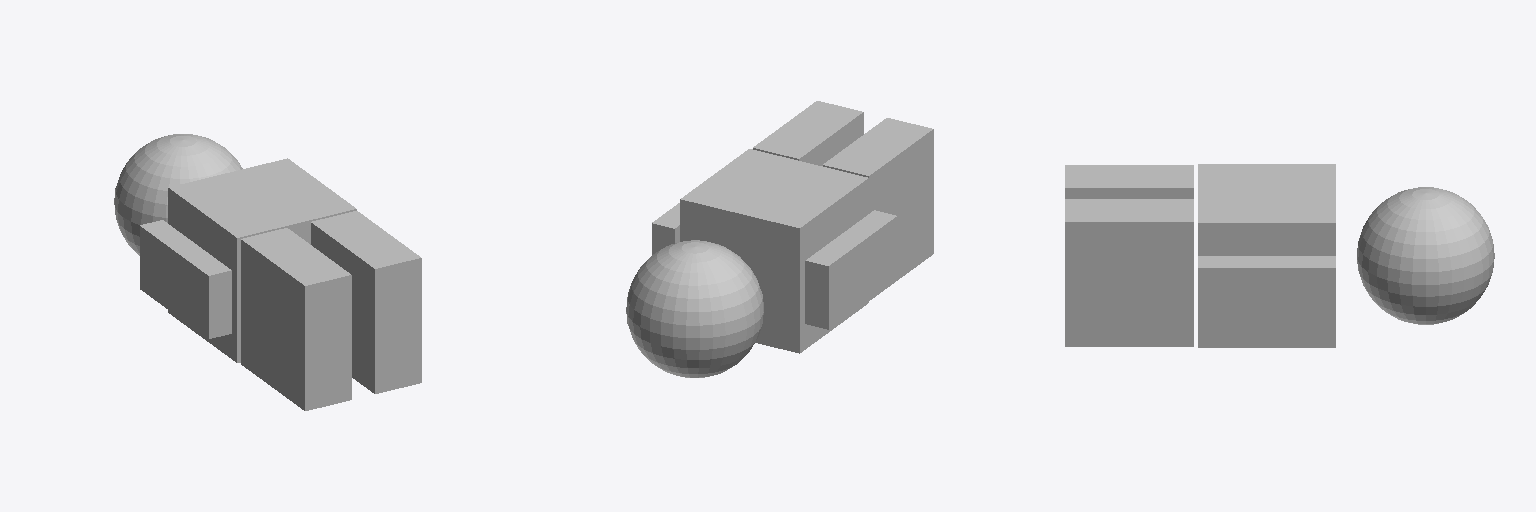
The model's file is sporty_robot_animation_000005.obj.
3 renders of one model, left to right at view 1: azimuth 30°, elevation 25°; view 2: azimuth 150°, elevation 25°; view 3: azimuth 270°, elevation 25°, orthographic.
Parts seen in each view (by area): view 1: Cube.002, Cube.001_Cube.005, Cube, Cube.004, Sphere.001; view 2: Cube, Sphere.001, Cube.002, Cube.004, Cube.001_Cube.005, Cube.003; view 3: Cube.001_Cube.005, Cube, Sphere.001, Cube.003, Cube.002.
Boxes of the visible parts, <box> form: Cube.002: <box>241,228,351,410</box>; Cube.001_Cube.005: <box>311,211,421,393</box>; Cube: <box>168,158,356,362</box>; Cube.004: <box>140,220,231,338</box>; Sphere.001: <box>114,134,242,255</box>; Cube: <box>680,149,868,353</box>; Sphere.001: <box>626,240,763,377</box>; Cube.002: <box>823,118,933,300</box>; Cube.004: <box>805,210,897,329</box>; Cube.001_Cube.005: <box>753,101,863,165</box>; Cube.003: <box>652,203,679,254</box>; Cube.001_Cube.005: <box>1065,199,1193,346</box>; Cube: <box>1198,164,1335,347</box>; Sphere.001: <box>1357,187,1494,324</box>; Cube.003: <box>1198,256,1335,330</box>; Cube.002: <box>1065,165,1193,198</box>.
Size of the model in its own units: 0.76 by 0.514 by 1.6.